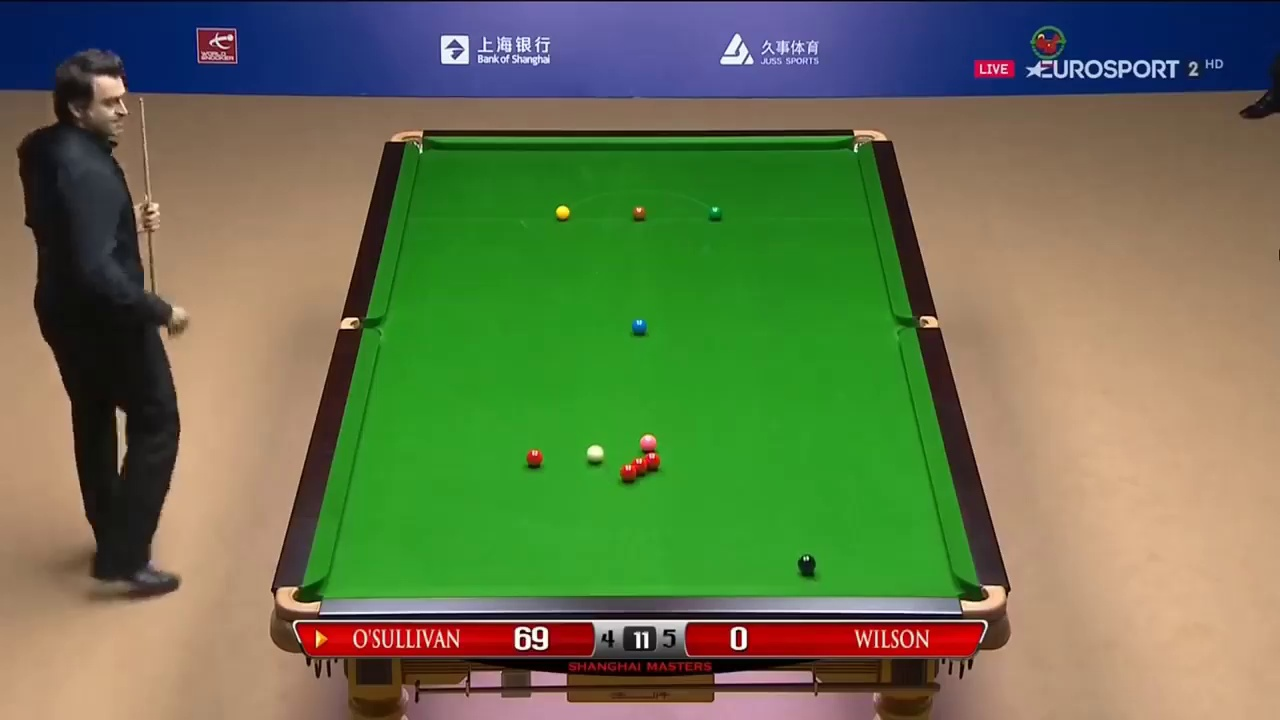ball: (796, 552, 815, 572), (631, 317, 650, 336), (584, 447, 604, 465), (637, 434, 657, 451), (524, 447, 542, 464), (706, 203, 724, 218), (554, 206, 567, 220), (633, 206, 648, 217)
